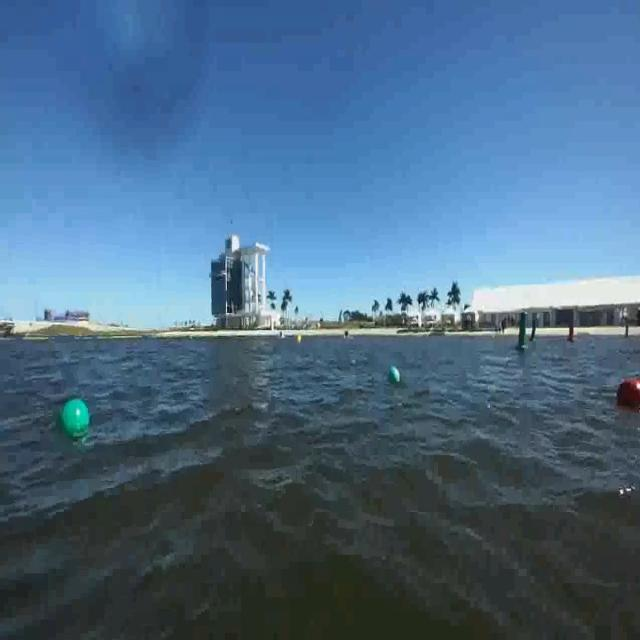green-buoy: (60, 401, 90, 436), (390, 366, 399, 382)
green-column-buoy: (516, 309, 529, 352), (529, 313, 540, 343)
red-buoy: (617, 377, 640, 411)
red-column-buoy: (567, 316, 577, 343)
yellow-buoy: (296, 334, 302, 346)
